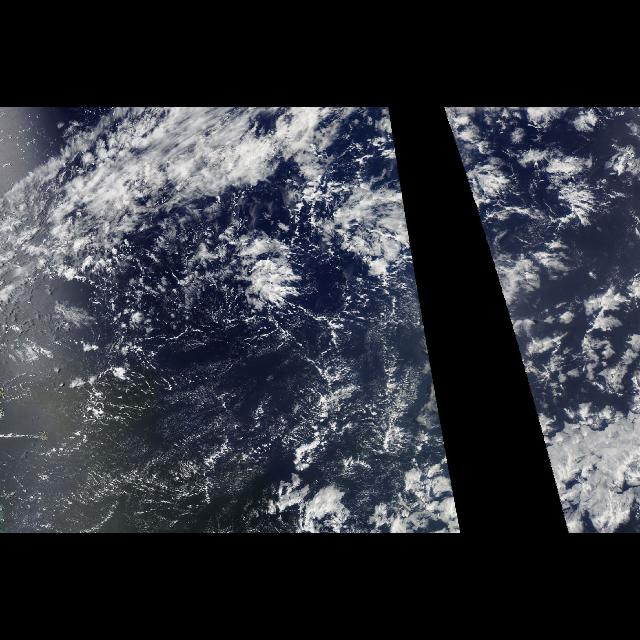Flower: (463, 108, 639, 392)
Sugar: (9, 379, 268, 529)
